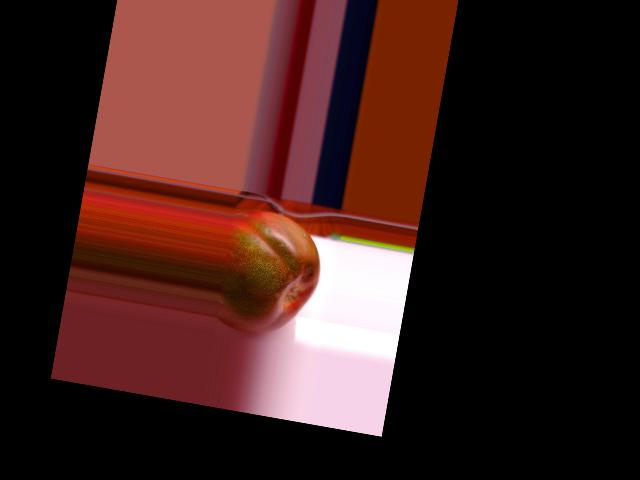tomato: (214, 205, 328, 341)
